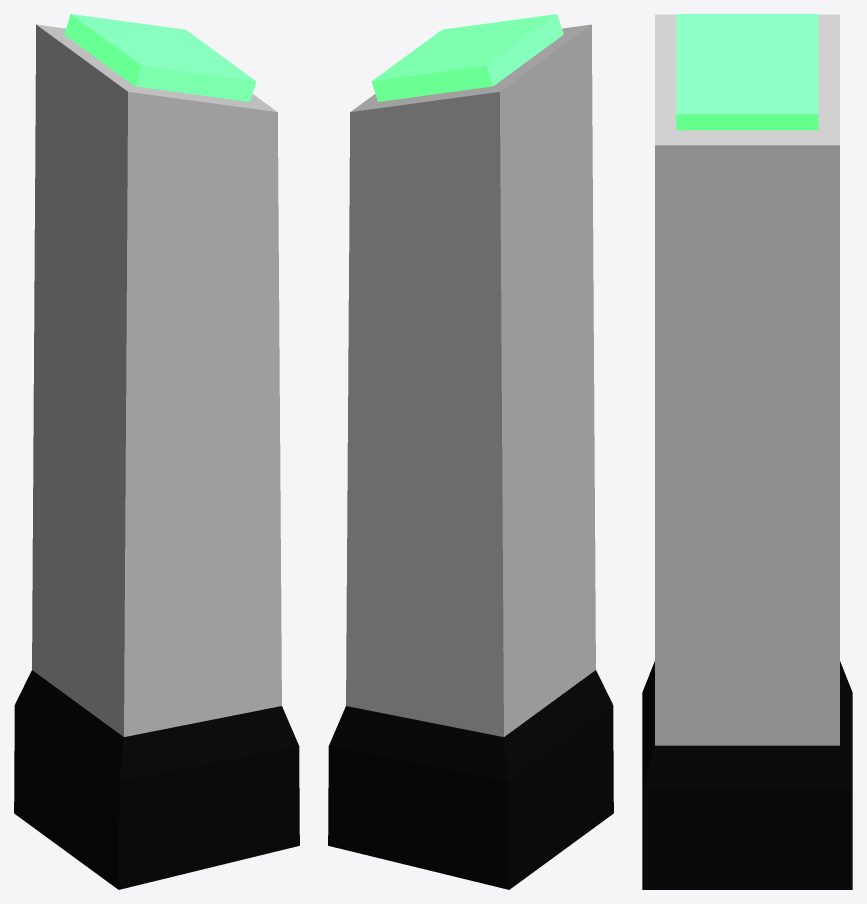
File: ButtonGreen.glb
3 renders of one model, left to right at view 1: azimuth 30°, elevation 25°; view 2: azimuth 150°, elevation 25°; view 3: azimuth 270°, elevation 25°, orthographic.
Parts seen in each view (by area): view 1: Cube; view 2: Cube; view 3: Cube.
Boxes of the visible parts, x1,y1,x2,y2 form: Cube: [14, 14, 299, 889]; Cube: [328, 14, 613, 889]; Cube: [642, 14, 852, 889].
Size of the model in its own units: 0.2882 by 1.22 by 0.2882.
